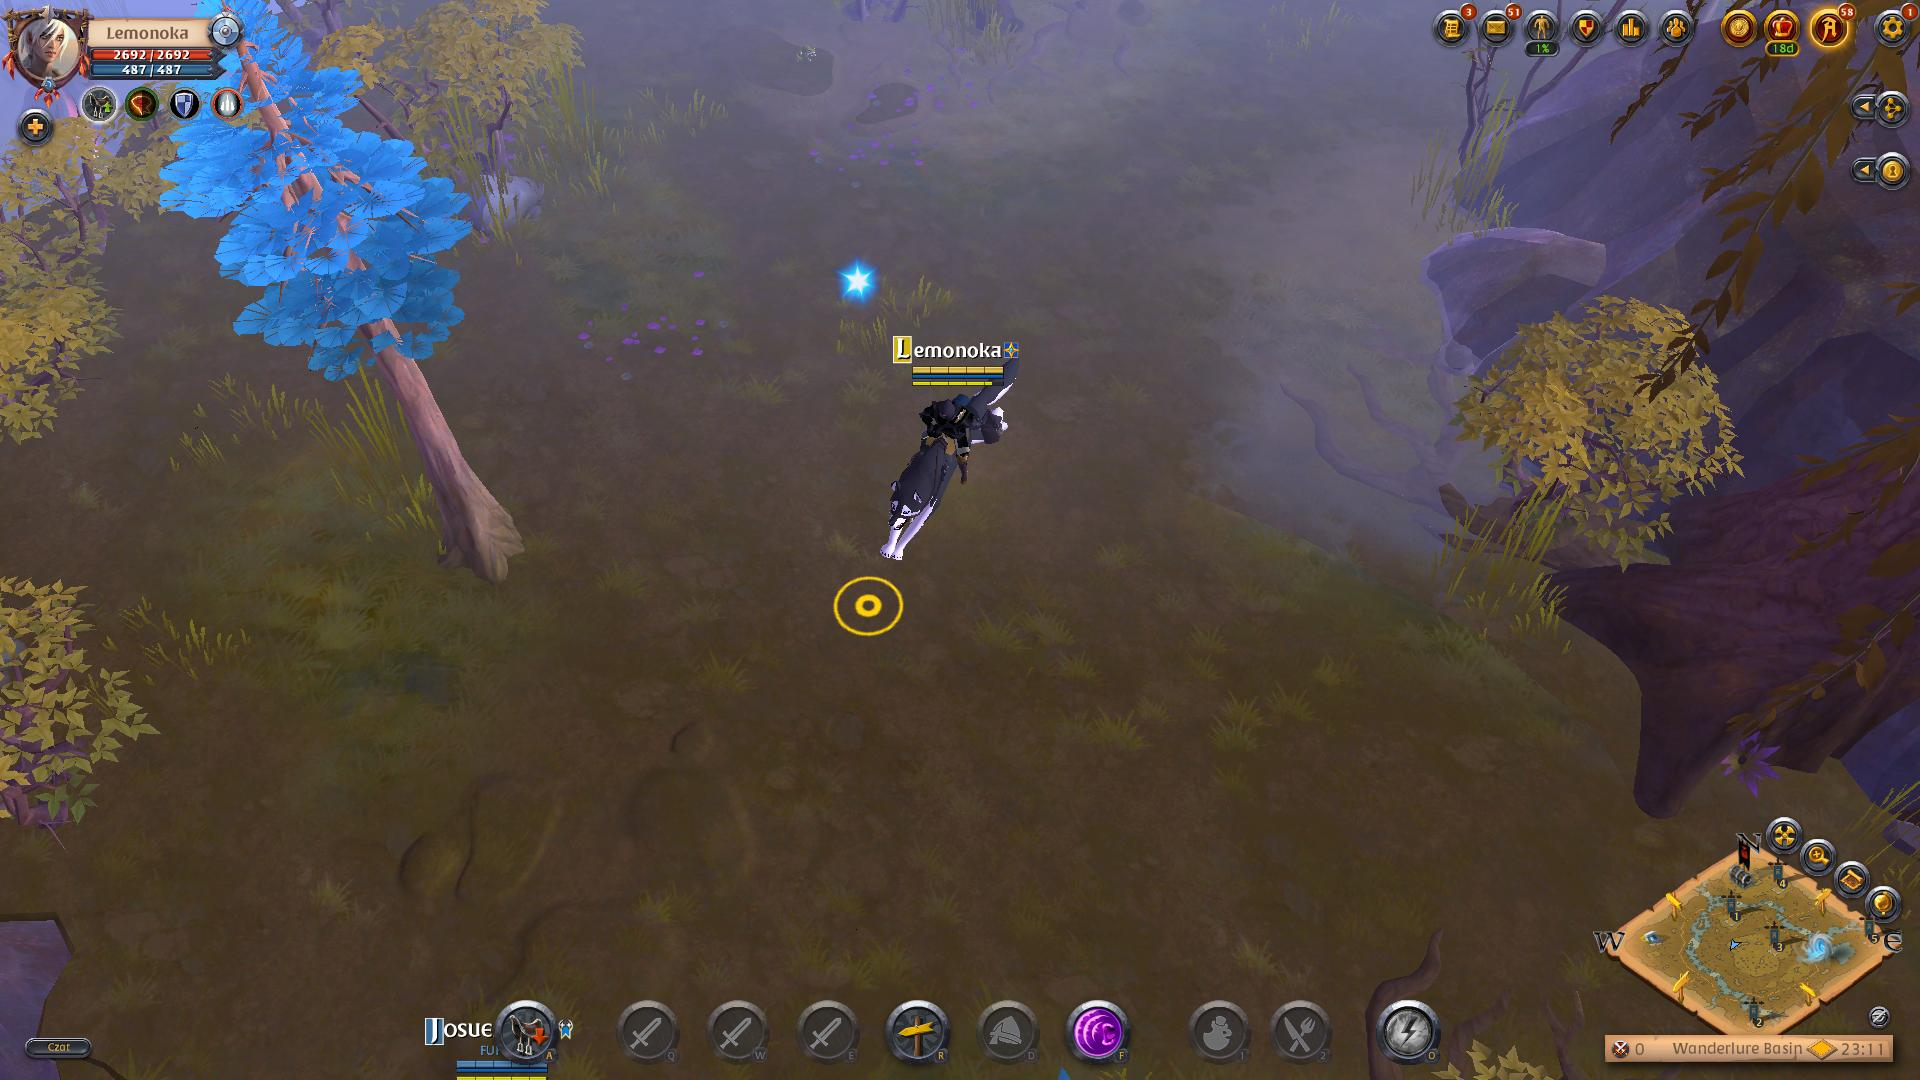wood tier 4: (236, 0, 491, 385)
